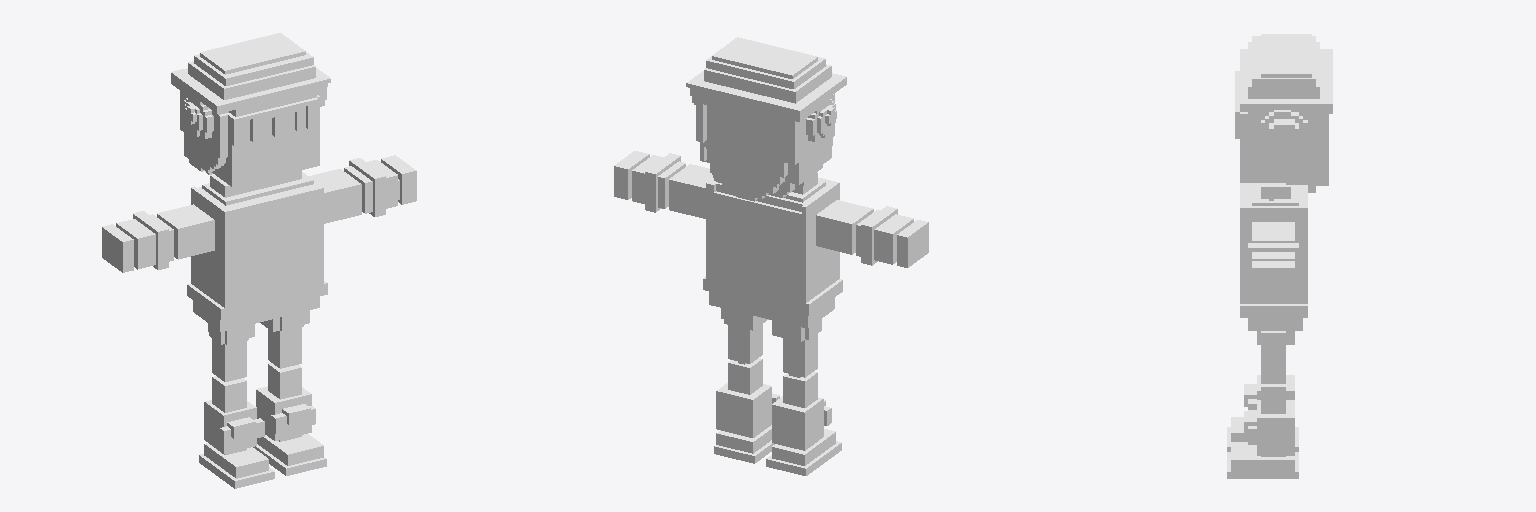
Rendered from sinCubrebocas.obj.
3 views of the same model, side by side, from view 1: azimuth 30°, elevation 25°; view 2: azimuth 150°, elevation 25°; view 3: azimuth 270°, elevation 25° (orthographic).
Parts seen in each view (by area): view 1: object 1; view 2: object 1; view 3: object 1.
Boxes of the visible parts, <box> form: object 1: <box>102,33,416,488</box>; object 1: <box>614,37,928,475</box>; object 1: <box>1227,34,1332,478</box>.
Bounding box in the file's own units: 8 × 10.5 × 2.5.